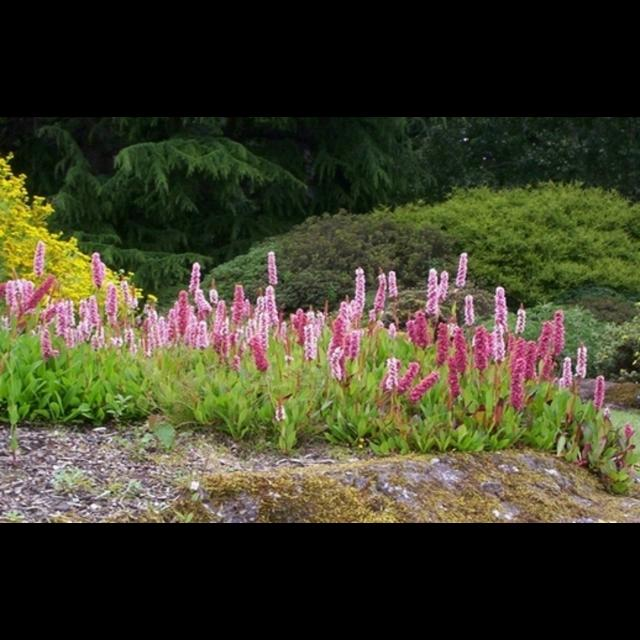Flower: (1, 248, 612, 424), (0, 152, 162, 310), (409, 373, 438, 403), (620, 425, 632, 445), (266, 296, 274, 308)
